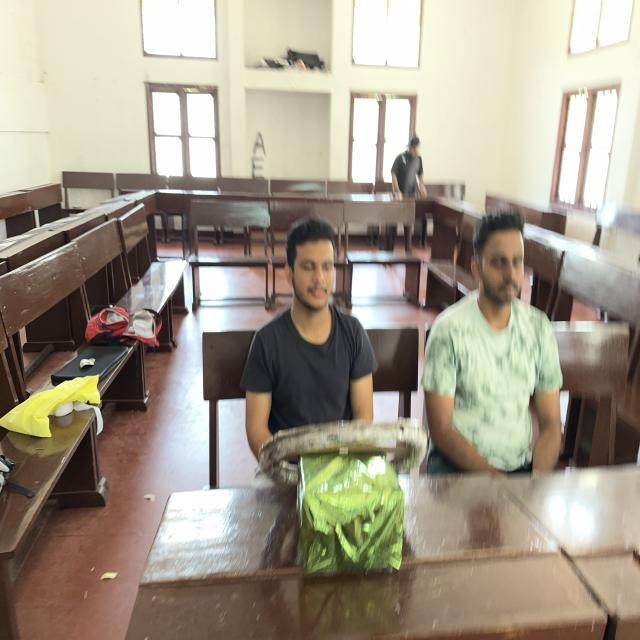no-seatbelt: (434, 288, 566, 488), (241, 307, 381, 494)
